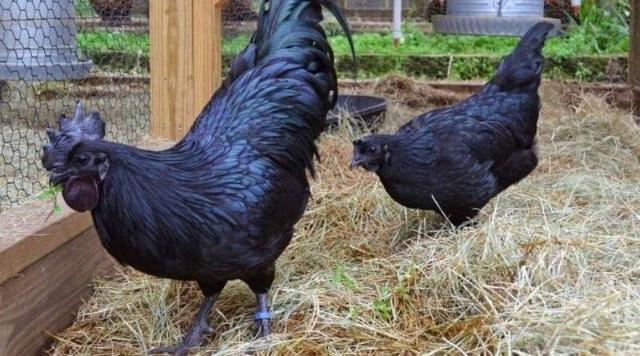Chicken: (40, 2, 357, 355), (350, 21, 554, 224)
